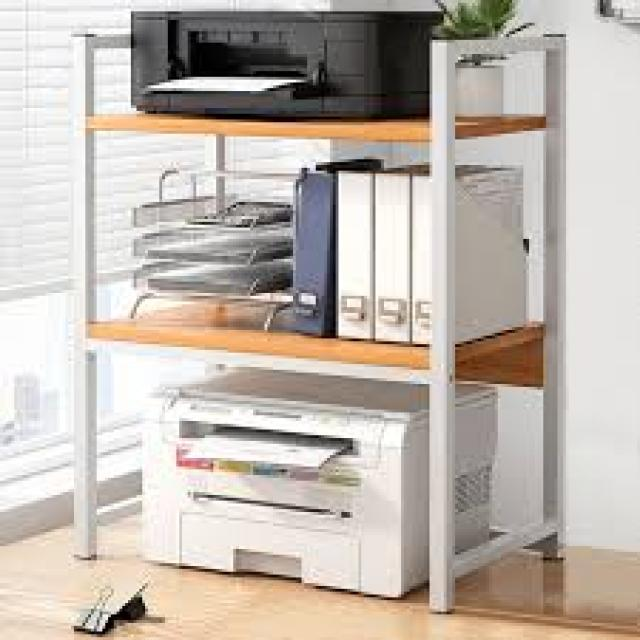printer: (136, 362, 498, 598), (128, 5, 444, 120)
